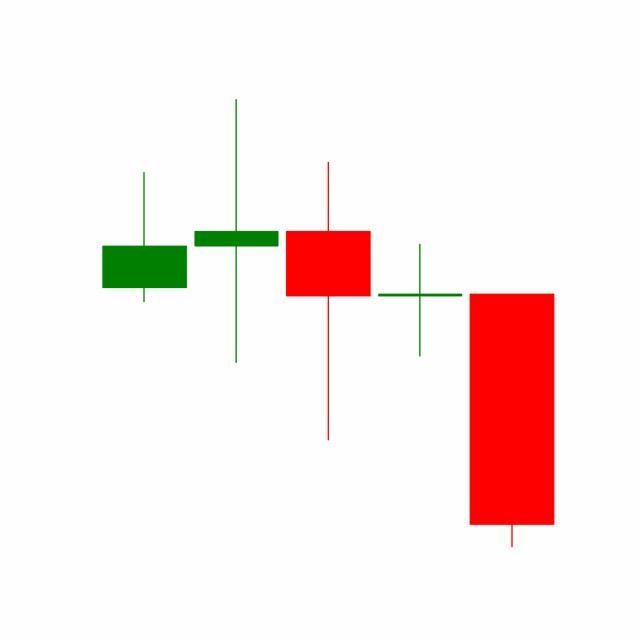Spinning Top: (374, 243, 468, 359)
